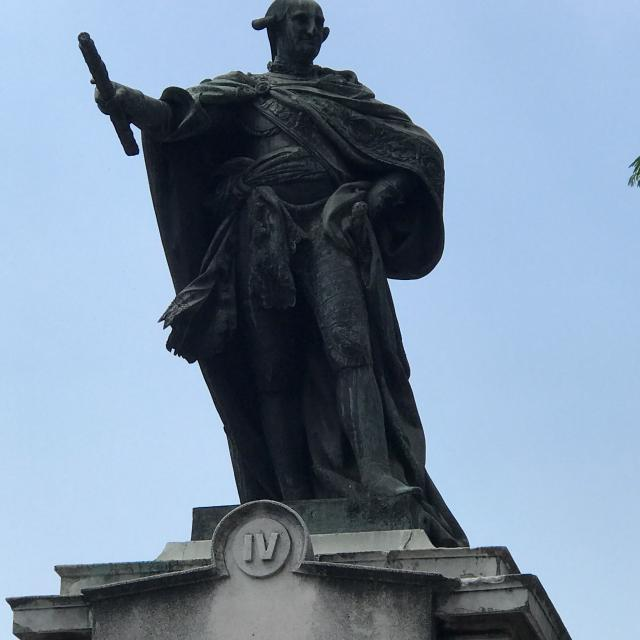King Charles IV Monument: (0, 0, 592, 639)
